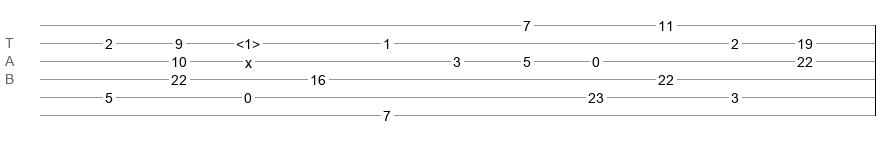0: (244, 90, 252, 100), (592, 54, 600, 64)
1: (383, 36, 391, 46)
10: (171, 54, 187, 64)
11: (658, 18, 674, 28)
16: (310, 72, 326, 82)
19: (797, 36, 813, 46)
2: (105, 36, 113, 46), (731, 36, 739, 46)
22: (171, 72, 187, 82), (658, 72, 674, 82), (797, 54, 813, 64)
23: (588, 90, 604, 100)
3: (453, 54, 461, 64), (731, 90, 739, 100)
5: (105, 90, 113, 100), (523, 54, 531, 64)
7: (383, 108, 391, 118), (523, 18, 531, 28)
9: (175, 36, 183, 46)
harmonic: (236, 36, 260, 46)
x: (245, 55, 252, 63)
